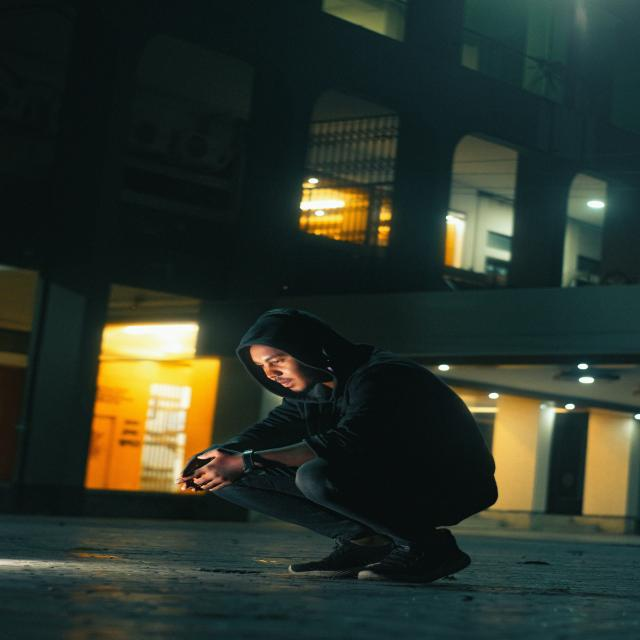4_capucha: (234, 310, 377, 404)
